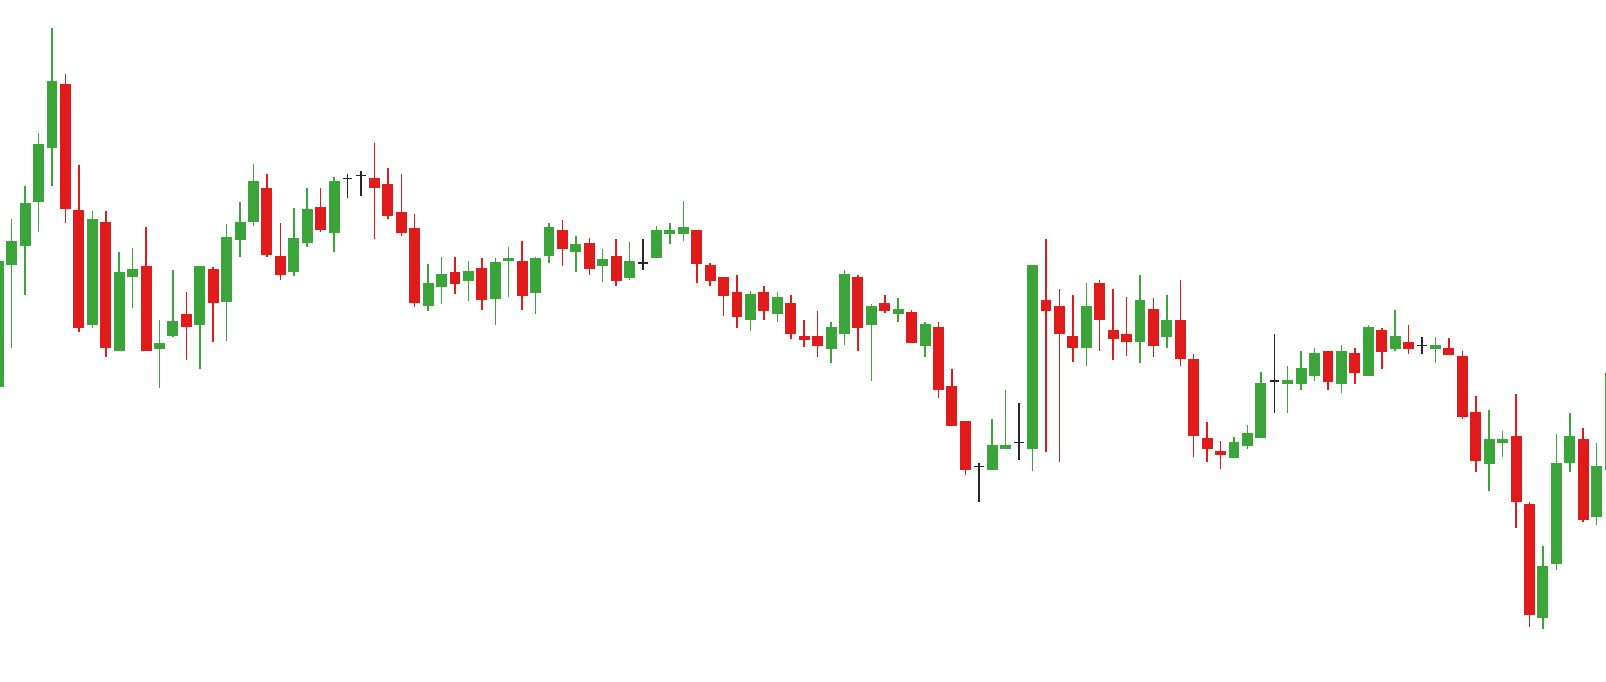sell: (543, 205, 688, 266)
